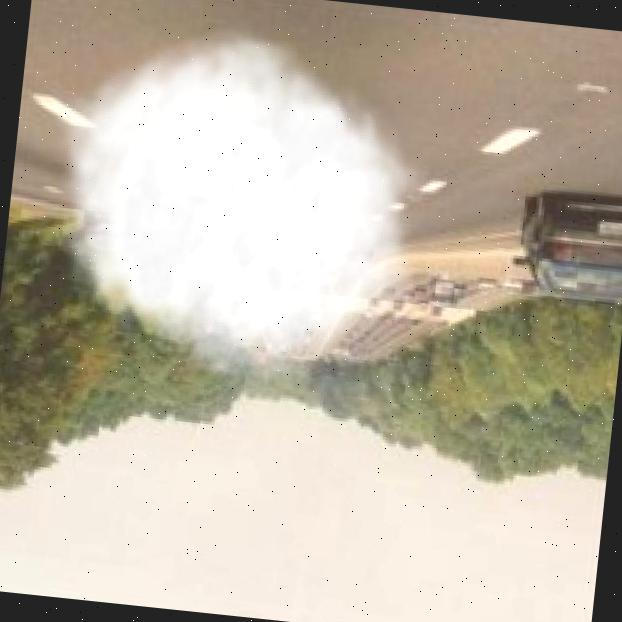smoke: (21, 3, 444, 413)
